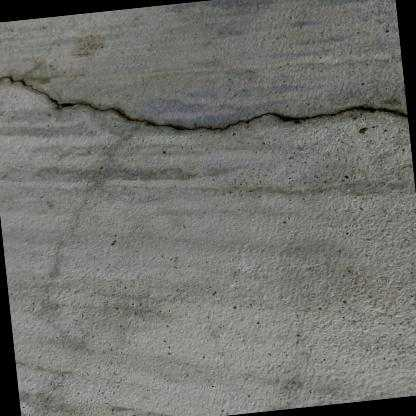crack: (0, 75, 408, 129)
